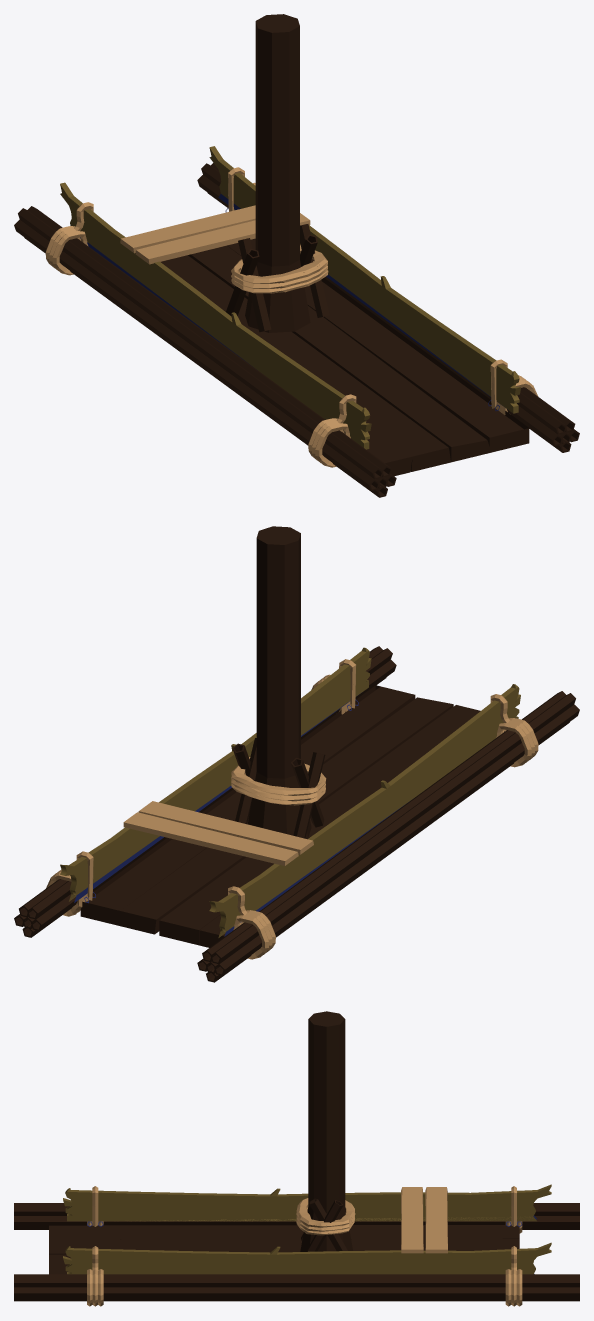
The picture shows the model from 3 angles, top to bottom: view 1: azimuth 30°, elevation 25°; view 2: azimuth 150°, elevation 25°; view 3: azimuth 270°, elevation 25°; orthographic projection. The views are drawn at different scales.
Visible parts, largest first — view 1: Object103, Cube006.004, Object100, Object107, Object108, Object109, Object105, Object104, Object101, Object102, Object110, Object106; view 2: Object103, Cube006.004, Object100, Object107, Object108, Object109, Object105, Object104, Object101, Object102, Object106; view 3: Object103, Cube006.004, Object100, Object110, Object109, Object105, Object104, Object102, Object101.
Part boxes in pixels (left/top/right/bottom): Object103: left=60, top=146, right=520, bottom=449; Cube006.004: left=14, top=163, right=579, bottom=497; Object100: left=245, top=14, right=310, bottom=332; Object107: left=227, top=238, right=529, bottom=452; Object108: left=188, top=245, right=489, bottom=462; Object109: left=161, top=255, right=450, bottom=471; Object105: left=120, top=205, right=310, bottom=264; Object104: left=45, top=167, right=538, bottom=467; Object101: left=226, top=224, right=329, bottom=332; Object102: left=231, top=244, right=328, bottom=293; Object110: left=366, top=423, right=412, bottom=476; Object106: left=80, top=194, right=500, bottom=404; Object103: left=60, top=647, right=520, bottom=937; Cube006.004: left=14, top=646, right=579, bottom=982; Object100: left=247, top=526, right=311, bottom=838; Object107: left=80, top=685, right=415, bottom=925; Object108: left=119, top=697, right=453, bottom=934; Object109: left=159, top=705, right=480, bottom=945; Object105: left=123, top=801, right=313, bottom=865; Object104: left=46, top=659, right=538, bottom=959; Object101: left=232, top=738, right=325, bottom=838; Object102: left=231, top=757, right=326, bottom=805; Object106: left=74, top=695, right=408, bottom=936; Object103: left=63, top=1184, right=551, bottom=1274; Cube006.004: left=14, top=1203, right=579, bottom=1301; Object100: left=300, top=1011, right=352, bottom=1251; Object110: left=49, top=1225, right=519, bottom=1239; Object109: left=49, top=1239, right=519, bottom=1254; Object105: left=401, top=1187, right=447, bottom=1253; Object104: left=87, top=1186, right=522, bottom=1306; Object102: left=296, top=1198, right=355, bottom=1235; Object101: left=301, top=1198, right=352, bottom=1251.
Size of the model in its own units: 532 by 716 by 1466.
